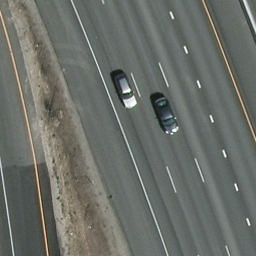car: (153, 96, 181, 136), (112, 71, 137, 108)
